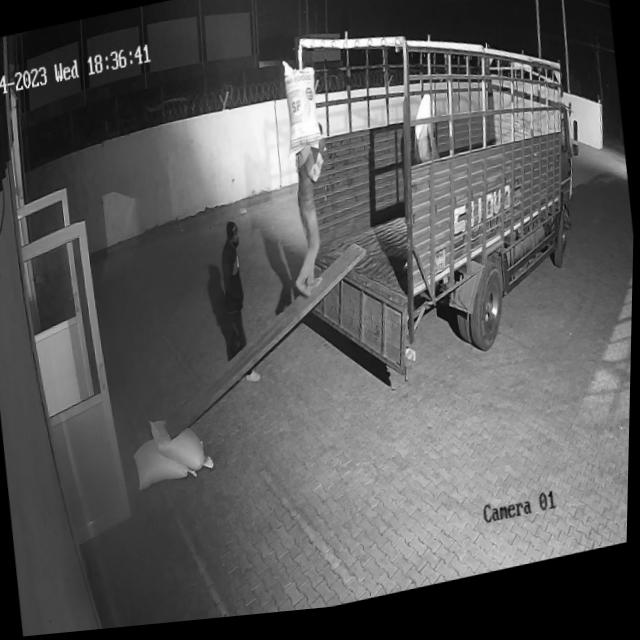sack: (277, 58, 325, 159), (150, 410, 217, 482), (132, 435, 200, 495)
